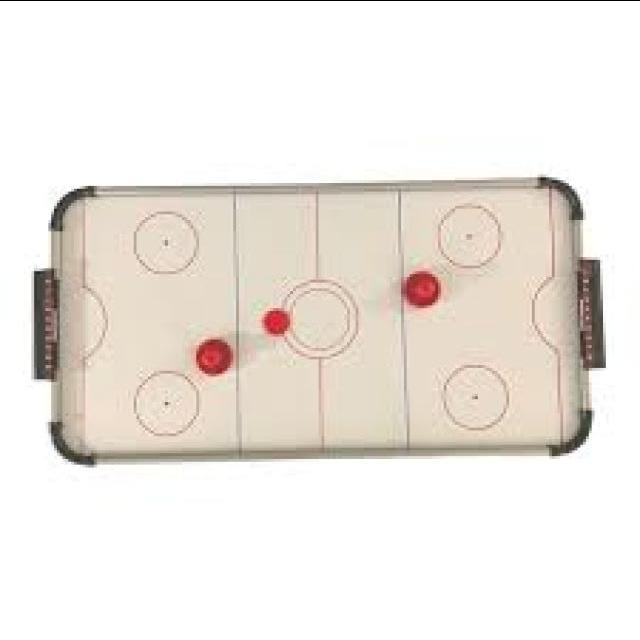chip: (261, 312, 290, 330)
